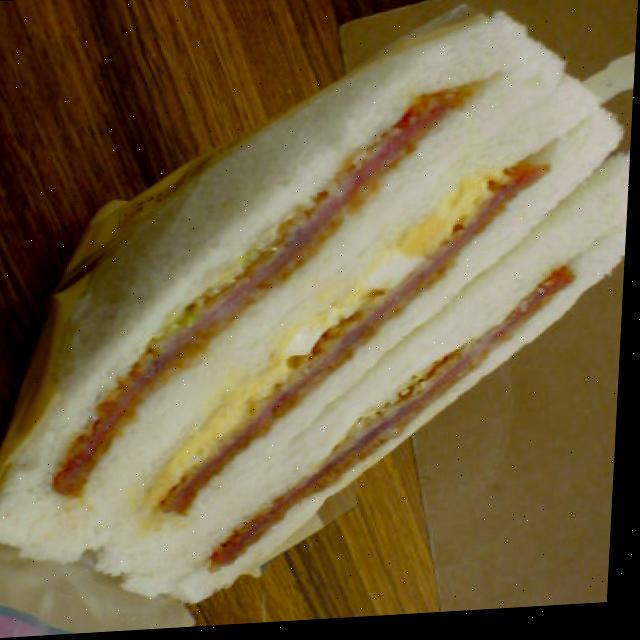三明治: (0, 0, 639, 626)
